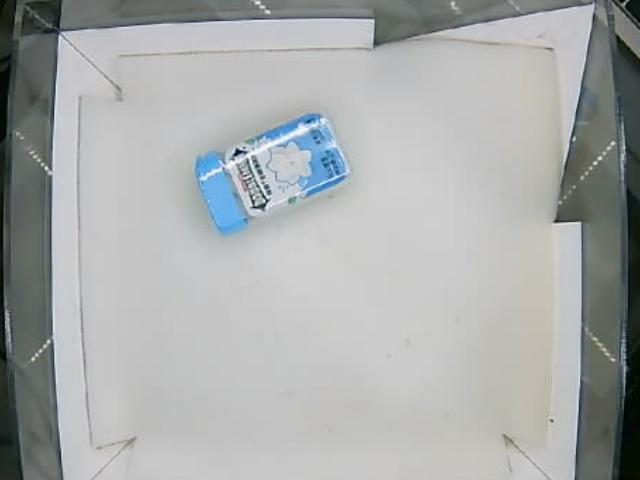Bottle: (194, 112, 352, 236)
